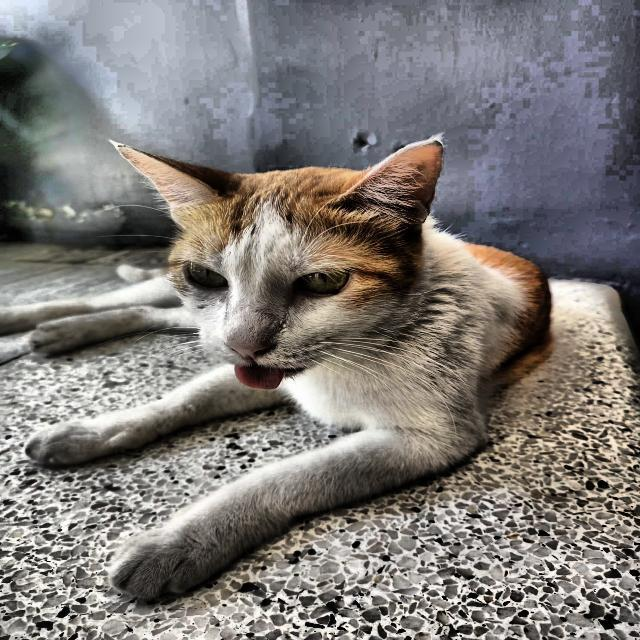Healthy skin: (272, 180, 499, 376)
